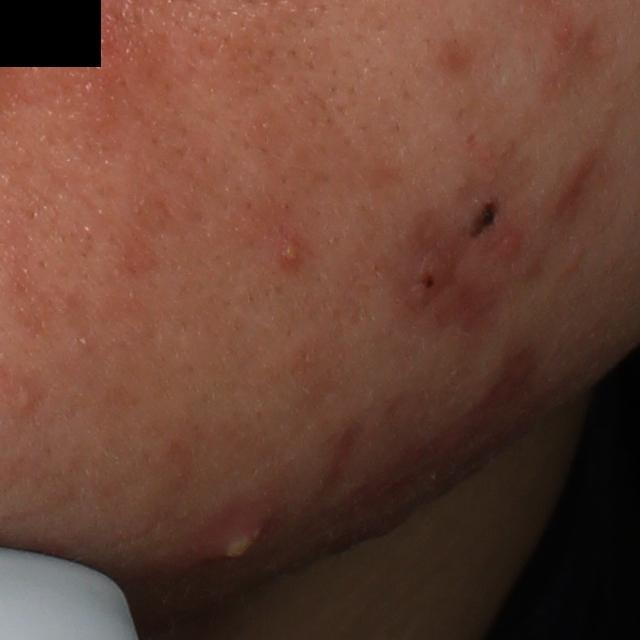nevus: (468, 199, 498, 237)
pustule: (194, 506, 278, 573), (275, 231, 307, 272)
